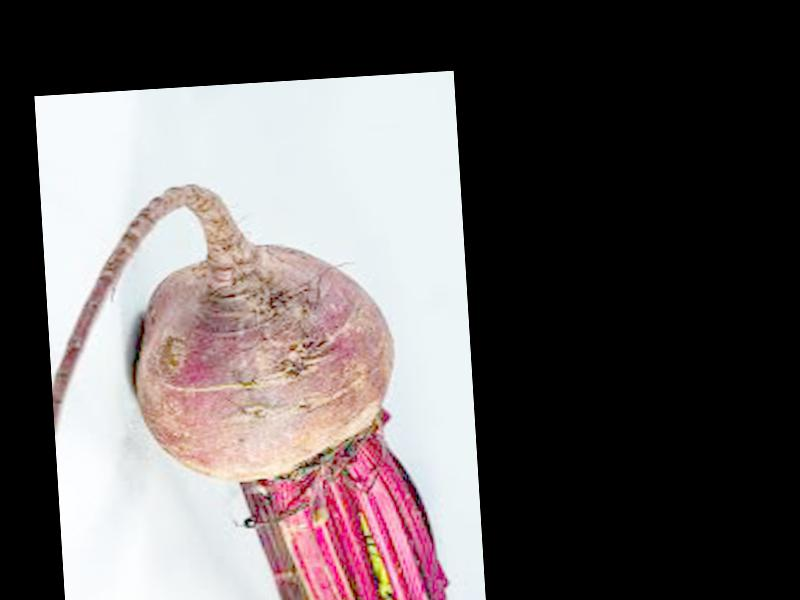Beet: (44, 170, 455, 600)
